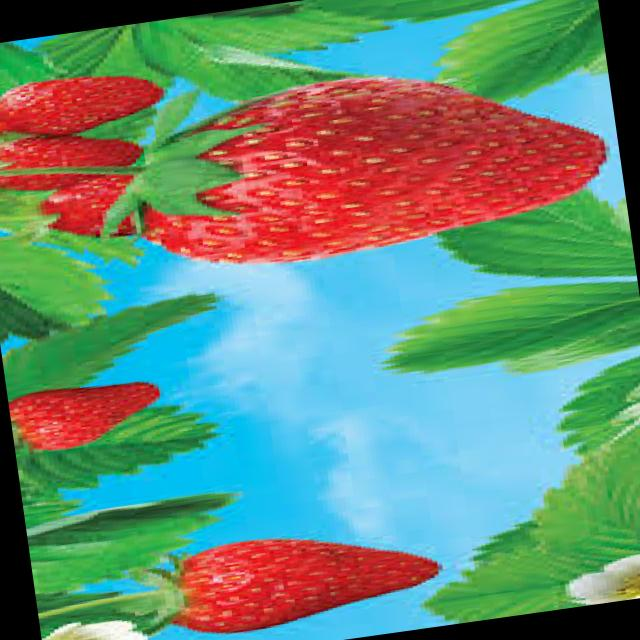strawberry: (126, 44, 611, 287), (116, 504, 454, 640), (0, 41, 190, 146), (10, 369, 166, 463), (0, 118, 148, 199)
